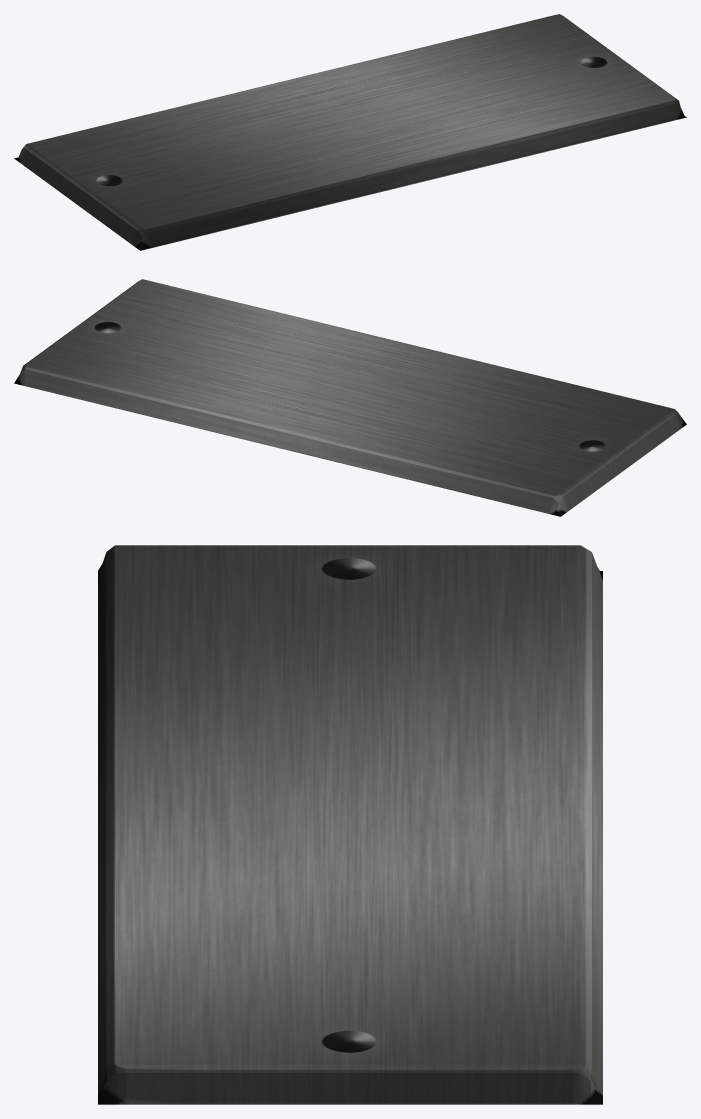
File: Plate.obj
The picture shows the model from 3 angles, top to bottom: view 1: azimuth 30°, elevation 25°; view 2: azimuth 150°, elevation 25°; view 3: azimuth 270°, elevation 25°; orthographic projection. The views are drawn at different scales.
Visible parts, largest first — view 1: Plane; view 2: Plane; view 3: Plane.
Part boxes in pixels (<box>): Plane: <box>14,14,686,250</box>; Plane: <box>14,279,686,516</box>; Plane: <box>98,545,602,1104</box>.
Bounding box in the file's own units: 2 × 0.0583 × 0.8.
Materials: 1 (1 with a texture image).
